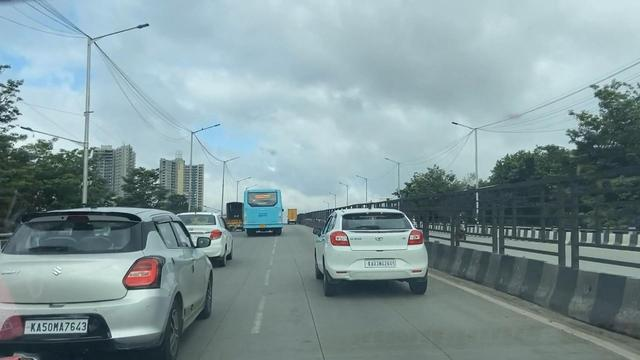HMV: (243, 182, 290, 246)
LMV: (0, 188, 223, 360), (310, 206, 445, 305)
